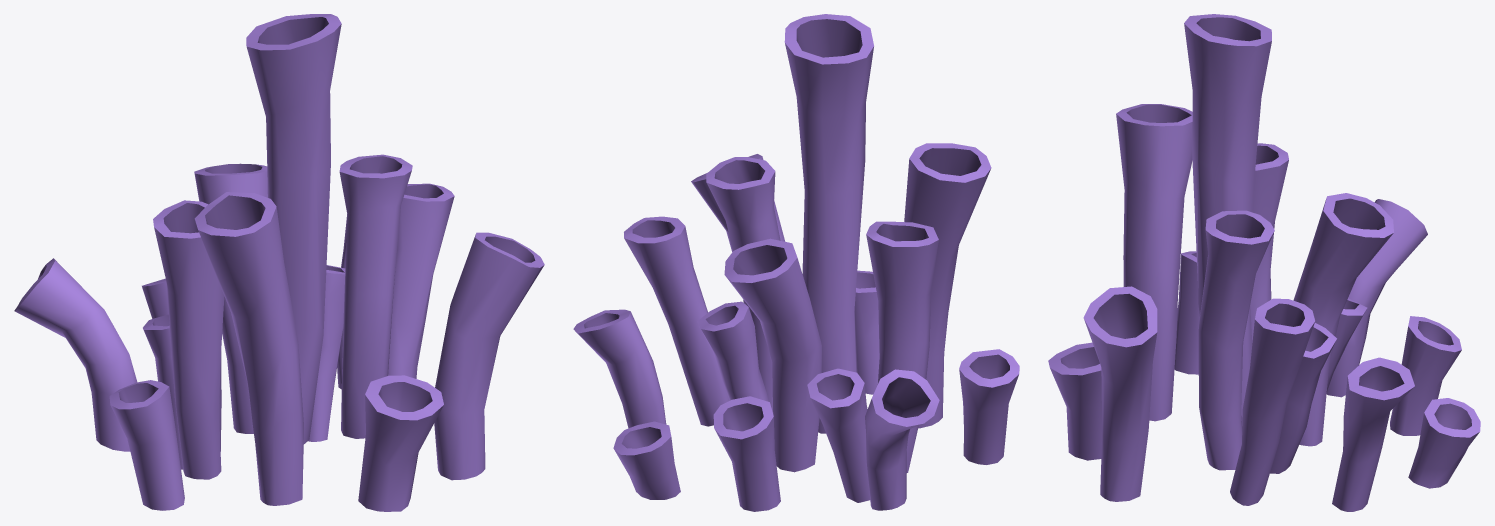
File: coral_tube_set_D.fbx
3 renders of one model, left to right at view 1: azimuth 30°, elevation 25°; view 2: azimuth 150°, elevation 25°; view 3: azimuth 270°, elevation 25°, orthographic. The views are drawn at different scales.
Visible parts, largest first — view 1: coral_tube_set_D_A, coral_tube_set_D_B, coral_tube_set_D_E, coral_tube_set_D_C, coral_tube_set_D_D, coral_tube_set_D_H, coral_tube_set_D_K, coral_tube_set_D_G, coral_tube_set_D_N, coral_tube_set_D_F, coral_tube_set_D_J, coral_tube_set_D_M (+1 smaller); view 2: coral_tube_set_D_A, coral_tube_set_D_F, coral_tube_set_D_B, coral_tube_set_D_D, coral_tube_set_D_G, coral_tube_set_D_H, coral_tube_set_D_C, coral_tube_set_D_I, coral_tube_set_D_L, coral_tube_set_D_N, coral_tube_set_D_M, coral_tube_set_D_J (+3 smaller); view 3: coral_tube_set_D_A, coral_tube_set_D_B, coral_tube_set_D_C, coral_tube_set_D_E, coral_tube_set_D_G, coral_tube_set_D_F, coral_tube_set_D_I, coral_tube_set_D_H, coral_tube_set_D_L, coral_tube_set_D_K, coral_tube_set_D_O, coral_tube_set_D_J (+3 smaller).
Boxes of the visible parts, box(x1,y1,x2,y2) form: coral_tube_set_D_A: box(246, 14, 341, 444); coral_tube_set_D_B: box(194, 192, 303, 505); coral_tube_set_D_E: box(434, 232, 544, 480); coral_tube_set_D_C: box(339, 154, 412, 438); coral_tube_set_D_D: box(153, 200, 224, 479); coral_tube_set_D_H: box(14, 258, 137, 451); coral_tube_set_D_K: box(358, 375, 443, 511); coral_tube_set_D_G: box(388, 183, 454, 378); coral_tube_set_D_N: box(109, 380, 184, 510); coral_tube_set_D_F: box(194, 163, 267, 433); coral_tube_set_D_J: box(308, 265, 345, 441); coral_tube_set_D_M: box(143, 314, 182, 469); coral_tube_set_D_A: box(784, 14, 873, 433); coral_tube_set_D_F: box(724, 238, 821, 472); coral_tube_set_D_B: box(904, 143, 991, 428); coral_tube_set_D_D: box(866, 221, 938, 472); coral_tube_set_D_G: box(624, 216, 729, 426); coral_tube_set_D_H: box(865, 369, 939, 510); coral_tube_set_D_C: box(706, 157, 780, 413); coral_tube_set_D_I: box(573, 309, 666, 428); coral_tube_set_D_L: box(713, 396, 780, 511); coral_tube_set_D_N: box(959, 349, 1019, 464); coral_tube_set_D_M: box(807, 368, 870, 502); coral_tube_set_D_J: box(697, 301, 768, 401); coral_tube_set_D_A: box(1184, 14, 1271, 425); coral_tube_set_D_B: box(1116, 104, 1192, 421); coral_tube_set_D_C: box(1198, 210, 1274, 470); coral_tube_set_D_E: box(1083, 286, 1157, 501); coral_tube_set_D_G: box(1230, 298, 1315, 505); coral_tube_set_D_F: box(1293, 193, 1393, 446); coral_tube_set_D_I: box(1332, 357, 1414, 511); coral_tube_set_D_H: box(1326, 199, 1427, 397); coral_tube_set_D_L: box(1390, 316, 1461, 435); coral_tube_set_D_K: box(1048, 342, 1102, 460); coral_tube_set_D_O: box(1408, 398, 1480, 488); coral_tube_set_D_J: box(1270, 323, 1336, 473).
Bounding box in the file's own units: 54.22 × 60.03 × 53.99.
